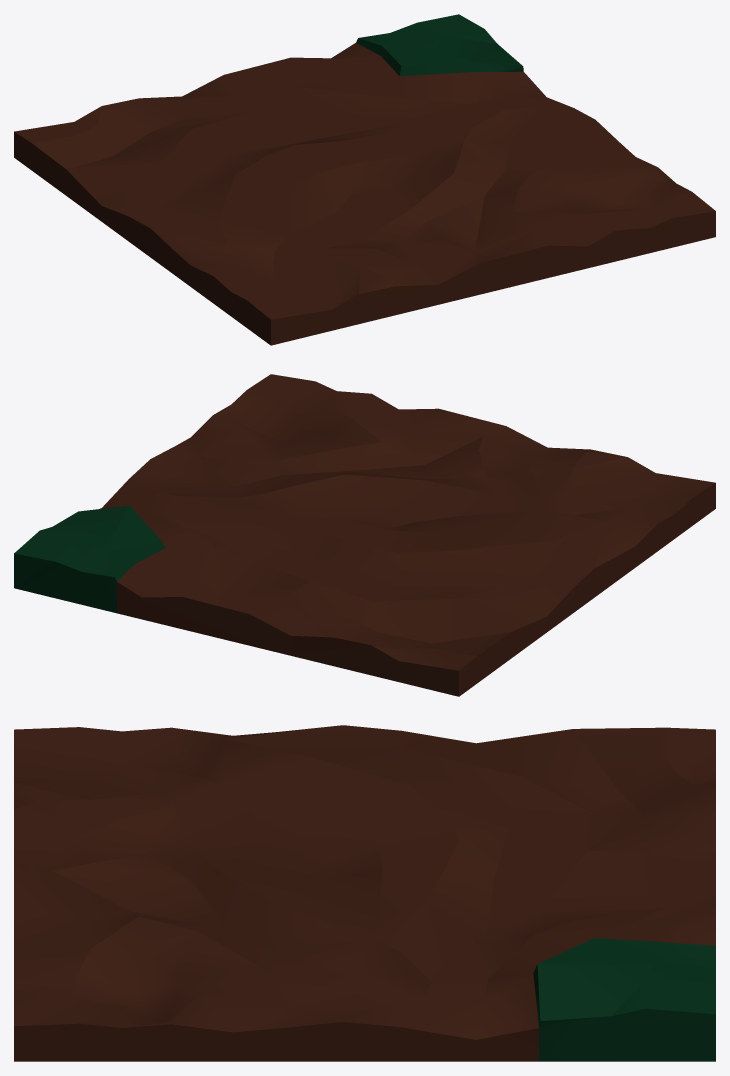
Rendered from Ground_Corner_External_RU.fbx.
3 renders of one model, top to bottom at view 1: azimuth 30°, elevation 25°; view 2: azimuth 150°, elevation 25°; view 3: azimuth 270°, elevation 25°, orthographic. The views are drawn at different scales.
Parts seen in each view (by area): view 1: Ground_Corner_External_RU; view 2: Ground_Corner_External_RU; view 3: Ground_Corner_External_RU.
Boxes of the visible parts, x1,y1,x2,y2 form: Ground_Corner_External_RU: (14,14,715,345); Ground_Corner_External_RU: (14,374,715,696); Ground_Corner_External_RU: (14,725,715,1061).
Bounding box in the file's own units: 147 × 14.83 × 147.
